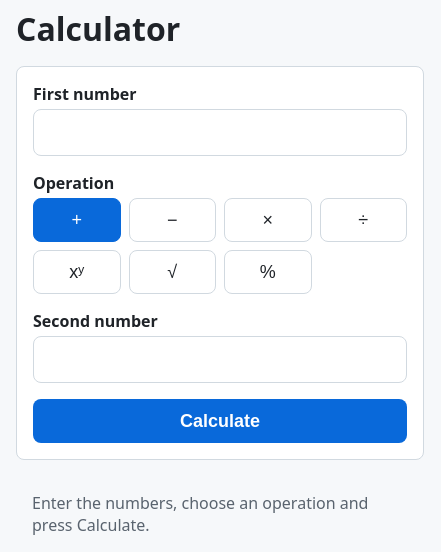
it: App › disables the button while calculating
Type "1" into the field labelled "First number" at point(220, 132), box [33,109,407,156]
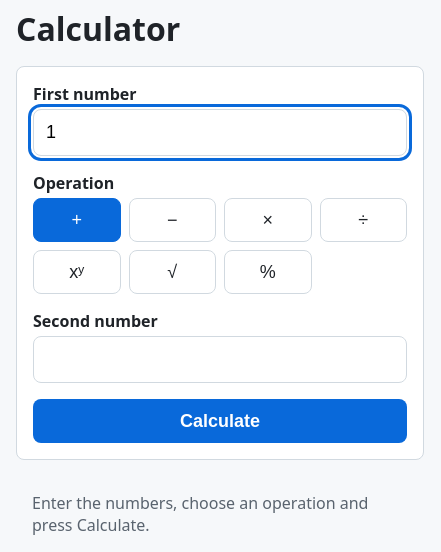
Type "2" into the field labelled "Second number" at point(220, 360), box [33,336,407,383]
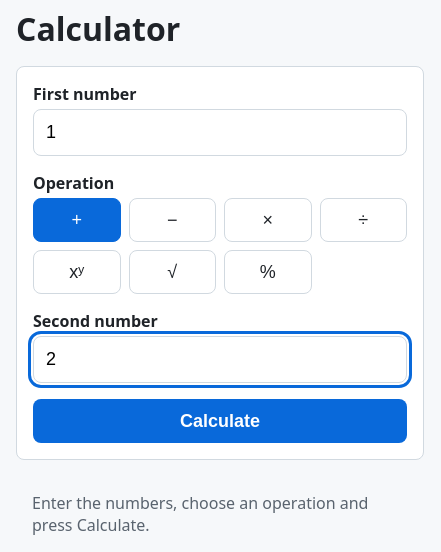
Click the button "Calculate" at point(220, 421), box [33,399,407,443]
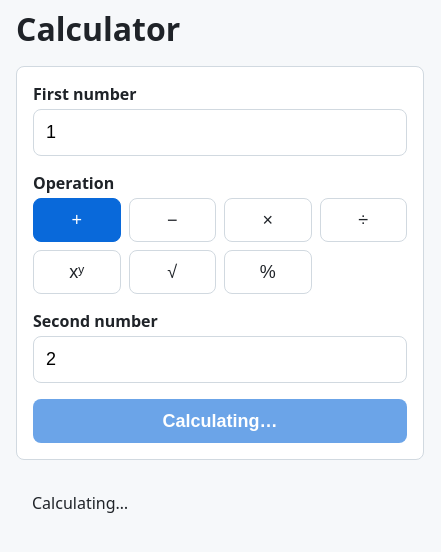
expect the button "Calculating…" is disabled: met, box [33,399,407,443]
